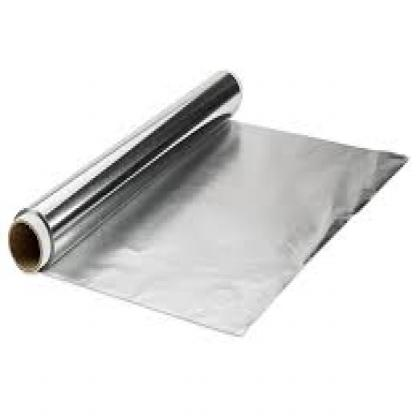METAL: (8, 69, 405, 332)
